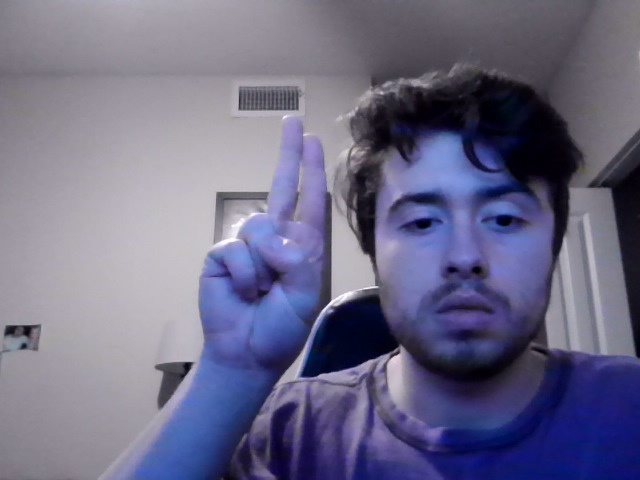u: (196, 114, 326, 406)
